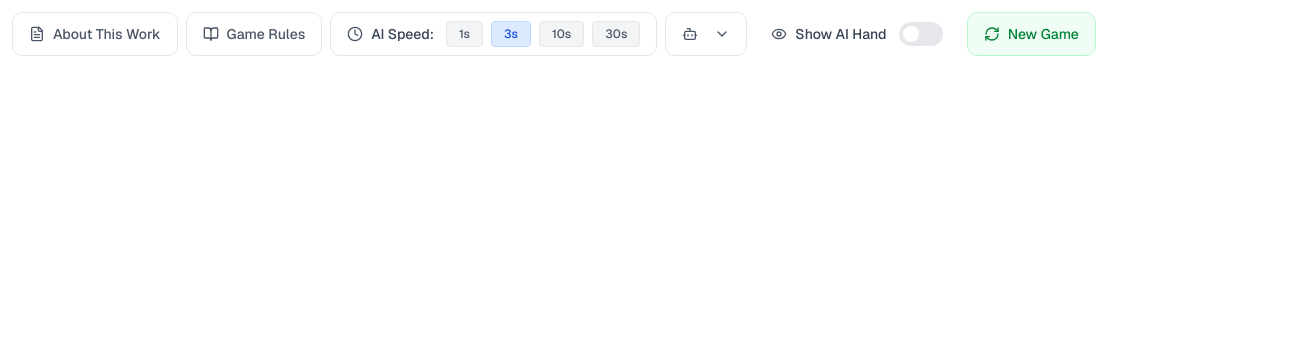
it: InfoTabs › tab functionality › opens about tab when clicked
Find the button specifically (not the heading that appears after clicking)
Click the button "About This Work". click: (95, 34)
box: 12,12 -> 178,56
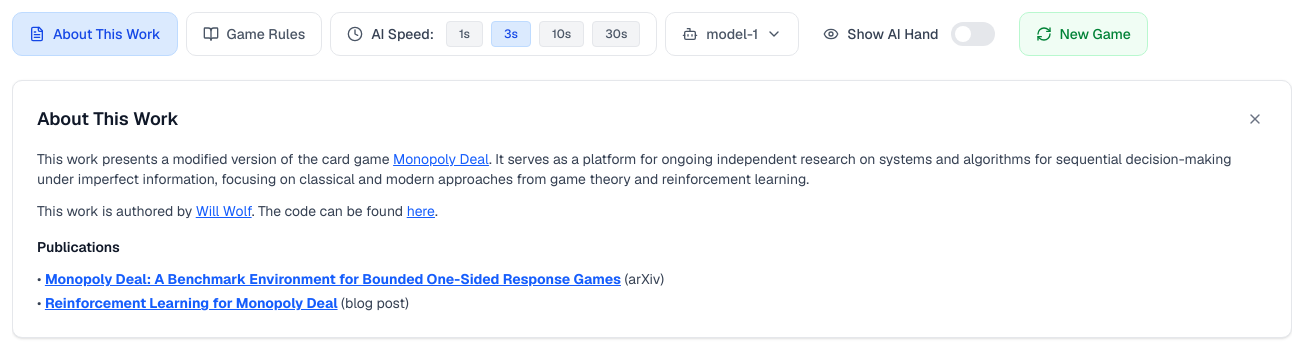
Now the text "This work presents a modified version of the card game" is shown, box 37,150 -> 390,168
